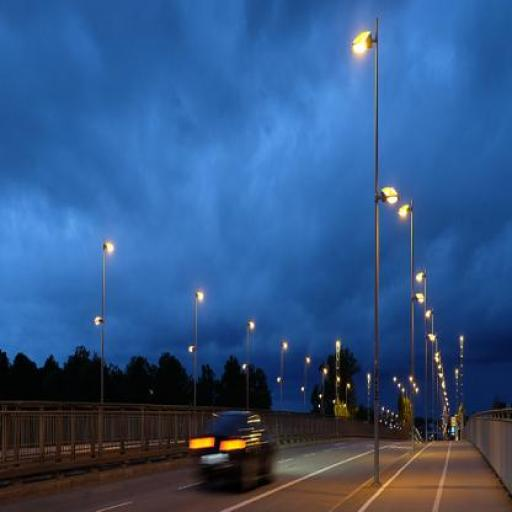street light: (352, 28, 398, 486), (398, 191, 424, 453), (95, 236, 111, 452), (416, 271, 433, 450), (188, 289, 204, 434), (242, 320, 255, 441), (300, 354, 310, 440), (277, 340, 286, 433)
